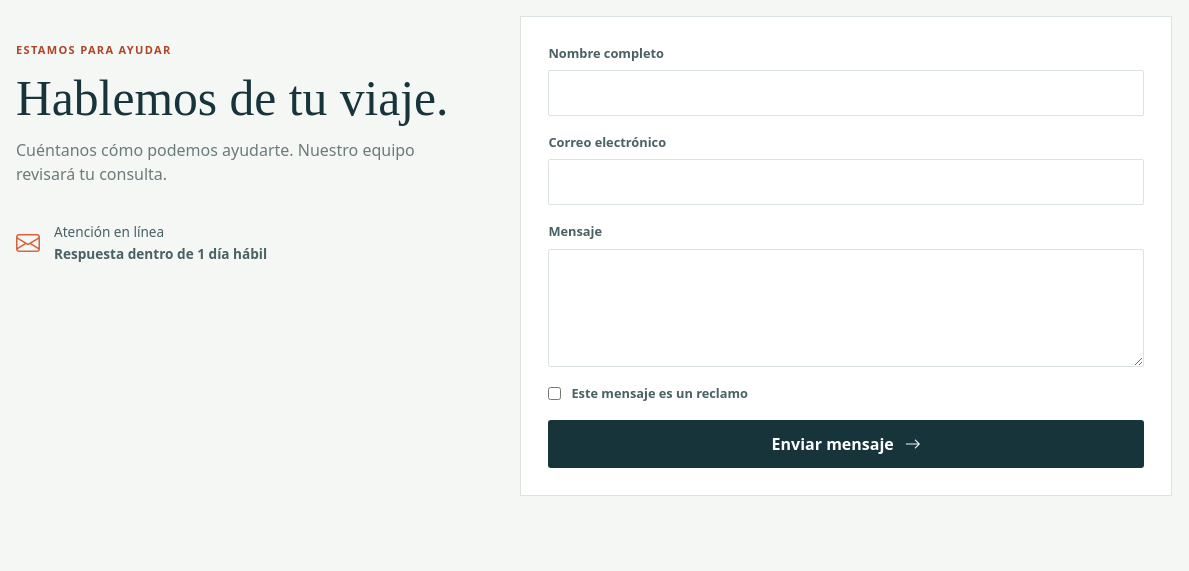
Test case: ServicePage › muestra un error cuando no se puede guardar el mensaje
Type "Ana Pérez" into the field labelled "Nombre completo" at [846, 93], box [548,70,1144,116]
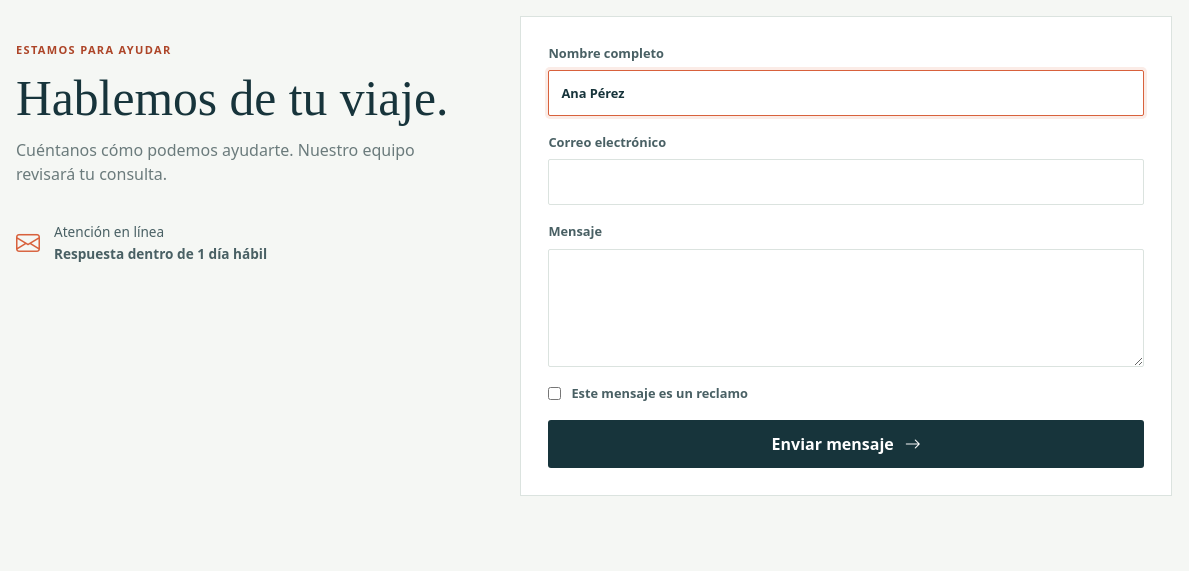
Type "ana@example.com" into the field labelled "Correo electrónico" at [846, 182], box [548,159,1144,205]
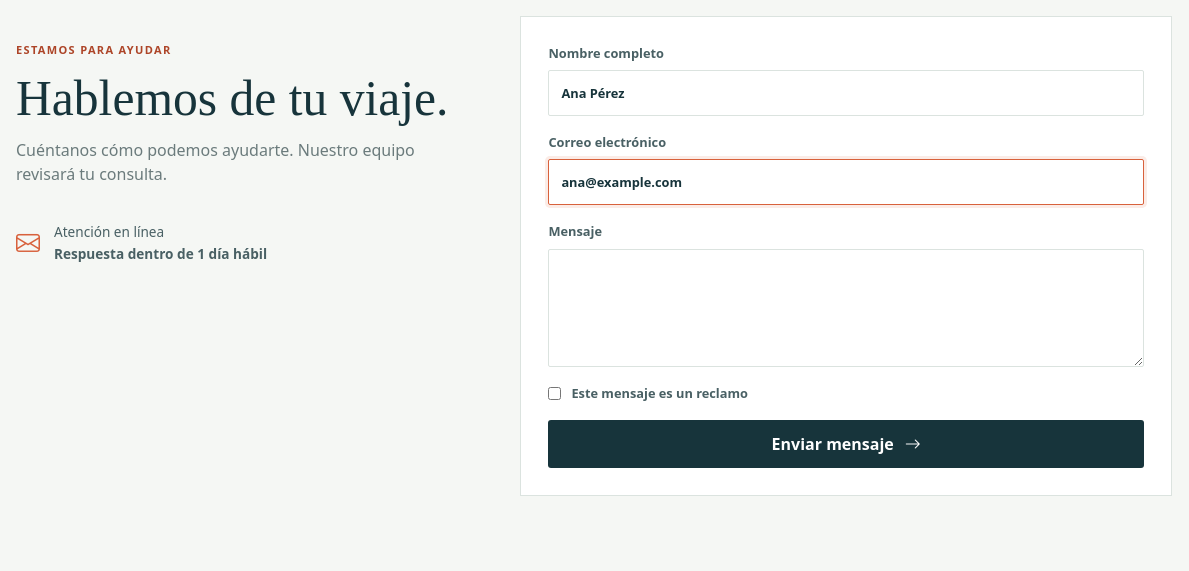
Type "Consulta" into the text box labelled "Mensaje" at [846, 308], box [548,249,1144,366]
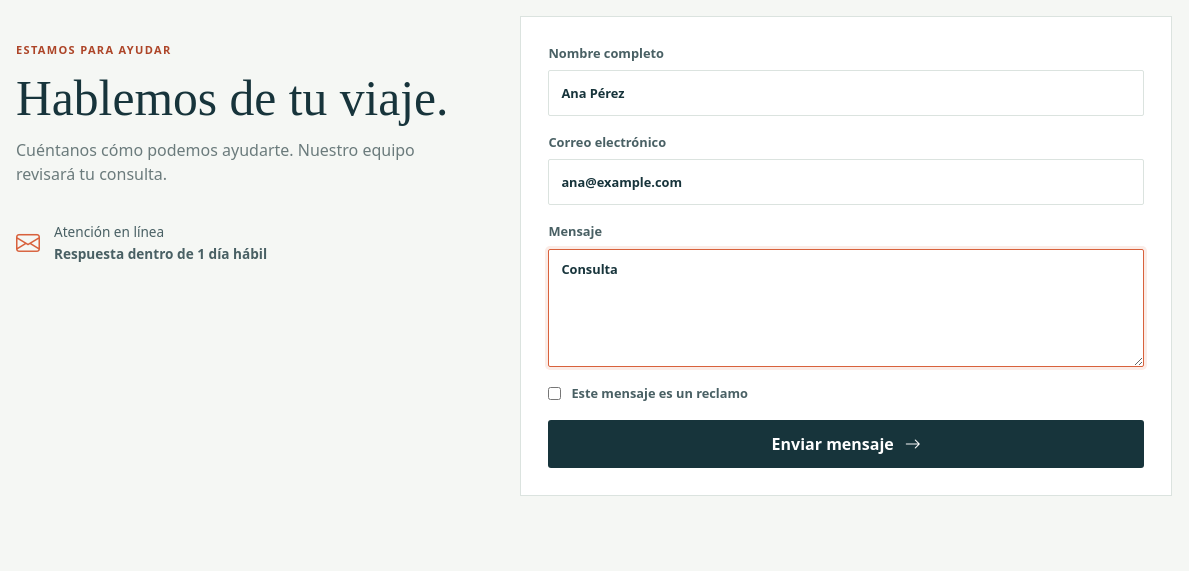
Click the button "Enviar mensaje" at [846, 444], box [548,420,1144,468]
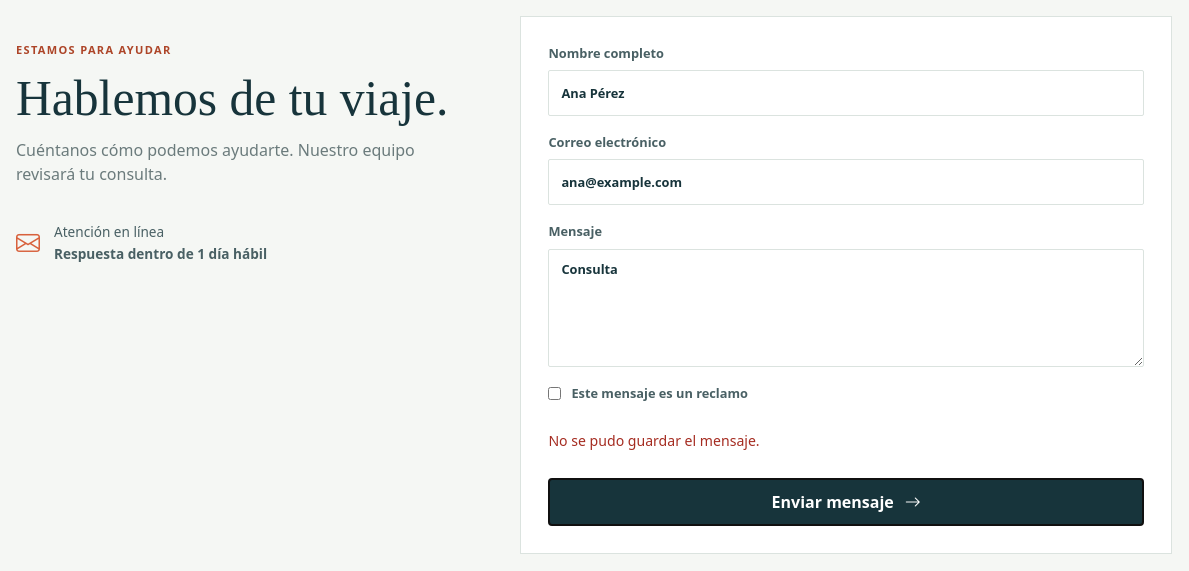
Check: the message reads "No se pudo guardar el mensaje.", box [548,431,760,450]
